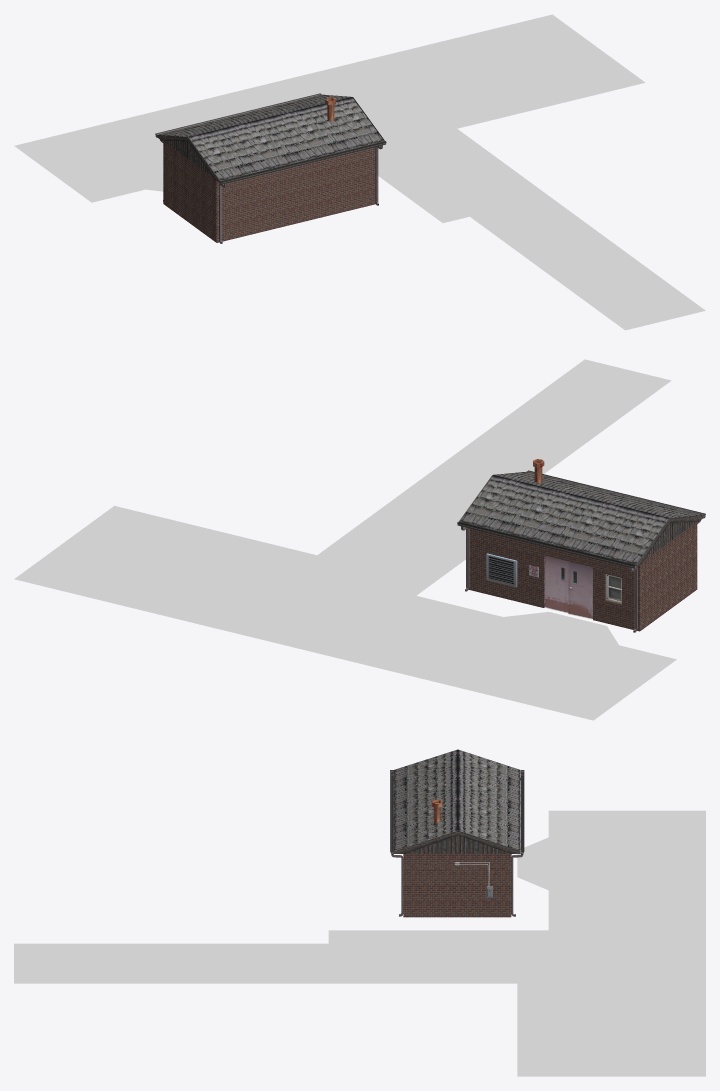
Rendered from town.gltf.
The picture shows the model from 3 angles, top to bottom: view 1: azimuth 30°, elevation 25°; view 2: azimuth 150°, elevation 25°; view 3: azimuth 270°, elevation 25°; orthographic projection. The views are drawn at different scales.
Parts seen in each view (by area): view 1: walkable, building_01, building_01_roof, building_01_guttertop.001; view 2: walkable, building_01_roof, building_01, Door_Shed_A.001, building_01_guttertop, building_01_vent; view 3: walkable, building_01_roof, building_01.
Boxes of the visible parts, x1=… form: walkable: x1=14, y1=14, x2=705, y2=330; building_01: x1=163, y1=141, x2=378, y2=242; building_01_roof: x1=157, y1=94, x2=384, y2=182; building_01_guttertop.001: x1=220, y1=140, x2=386, y2=184; walkable: x1=14, y1=359, x2=676, y2=720; building_01_roof: x1=459, y1=471, x2=704, y2=566; building_01: x1=466, y1=522, x2=697, y2=631; Door_Shed_A.001: x1=544, y1=556, x2=592, y2=619; building_01_guttertop: x1=457, y1=521, x2=636, y2=568; building_01_vent: x1=486, y1=553, x2=517, y2=587; walkable: x1=14, y1=810, x2=705, y2=1076; building_01_roof: x1=393, y1=749, x2=520, y2=853; building_01: x1=403, y1=853, x2=511, y2=917.
Size of what is drawn, in the model's own units: 20 by 3.53 by 22.
15 materials, 15 textured.
